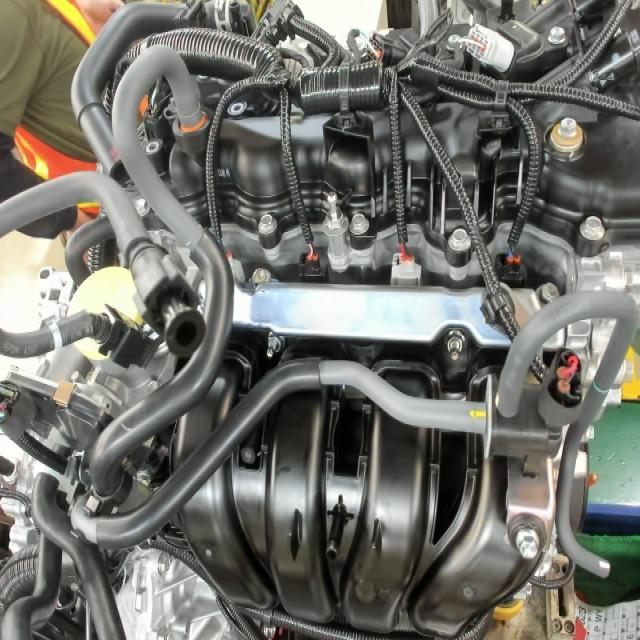Hose Canister-HJ: (591, 373, 615, 402)
Tube Sub Assy Fuel-W: (44, 319, 71, 356)
